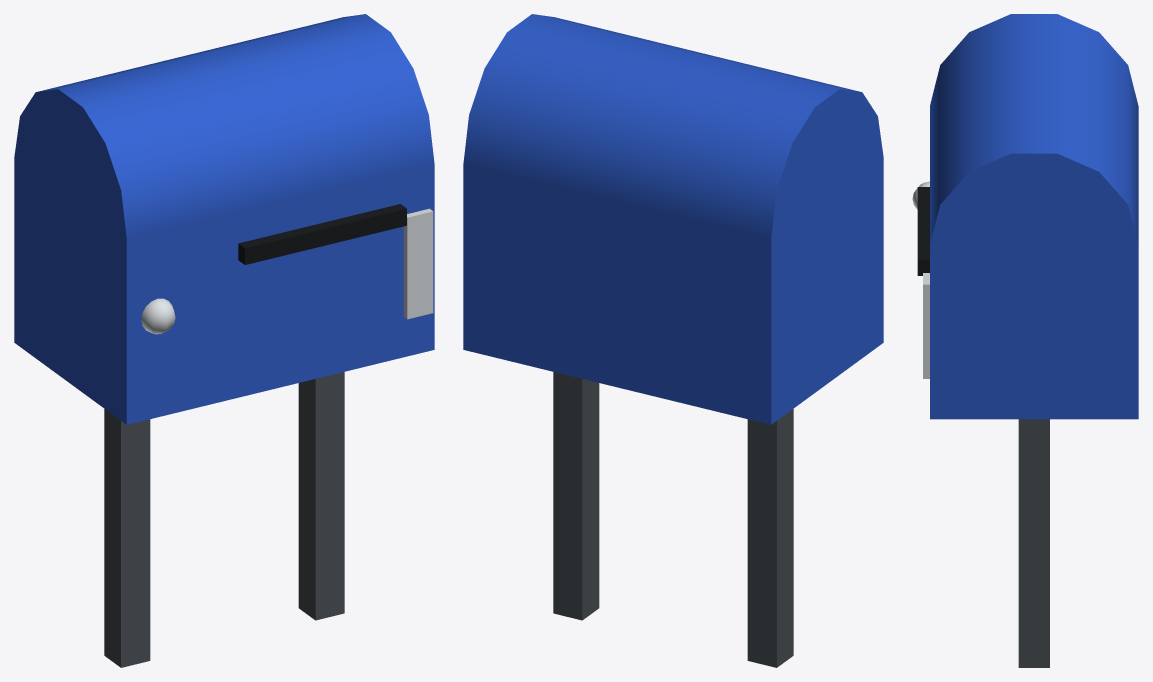
The model's file is mailbox.glb.
3 views of the same model, side by side, from view 1: azimuth 30°, elevation 25°; view 2: azimuth 150°, elevation 25°; view 3: azimuth 270°, elevation 25° (orthographic). The views are drawn at different scales.
Parts seen in each view (by area): view 1: mailbox; view 2: mailbox; view 3: mailbox.
Boxes of the visible parts, x1=… form: mailbox: x1=14, y1=14, x2=434, y2=667; mailbox: x1=463, y1=14, x2=883, y2=667; mailbox: x1=912, y1=14, x2=1138, y2=667.
Bounding box in the file's own units: 0.95 × 1.69 × 0.65.
